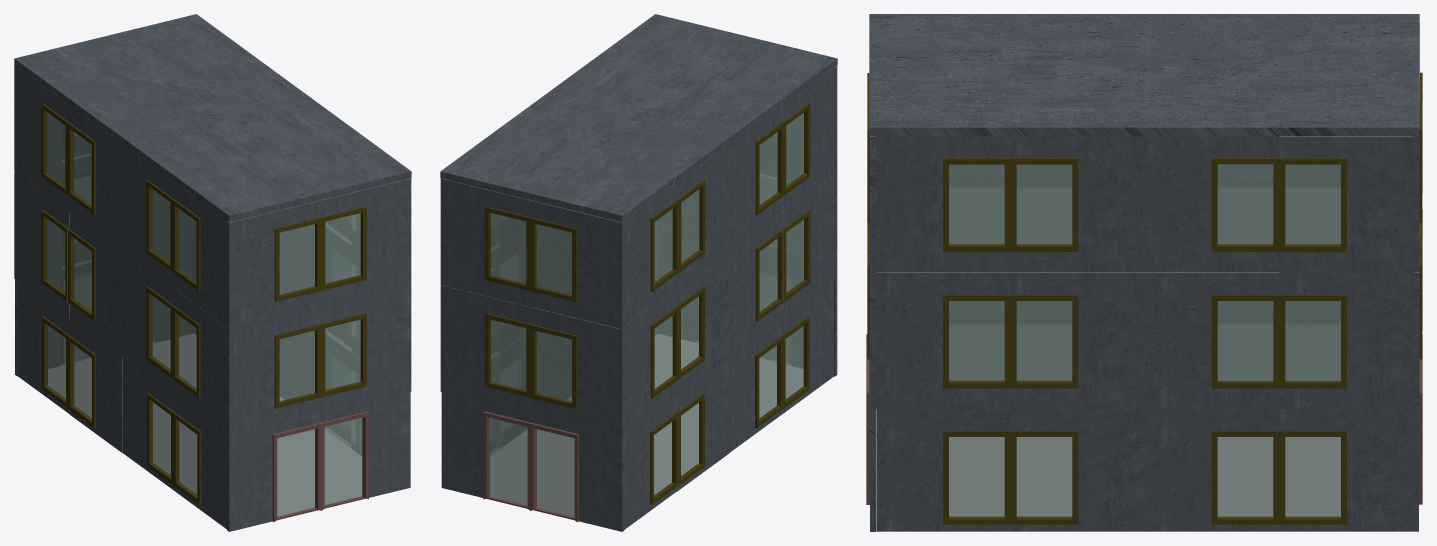
File: buildingD_textured.fbx
3 renders of one model, left to right at view 1: azimuth 30°, elevation 25°; view 2: azimuth 150°, elevation 25°; view 3: azimuth 270°, elevation 25°, orthographic. The views are drawn at different scales.
Parts seen in each view (by area): view 1: roof, window01 (×2), window02 (×2), window48, window40, fronDoor_01, fronDoor_02, window11 (×2), window04, window149, window34, window47 (+14 smaller); view 2: roof, window01 (×3), window02 (×2), window150, window35, backDoor_01, backDoor_02, window11 (×2), window39, window07, window03, window04 (+13 smaller); view 3: roof, window18, window32, window41, window05, window06, window31, window44, window45, window09 (×2), window11 (×2), window12 (×2) (+11 smaller).
Part boxes in pixels (bbox=[...]): roof: bbox=[14, 14, 411, 222]; window01 (×2): bbox=[17, 174, 321, 435]; window02 (×2): bbox=[14, 156, 411, 413]; window48: bbox=[226, 200, 321, 329]; window40: bbox=[320, 178, 411, 306]; fronDoor_01: bbox=[227, 414, 321, 531]; fronDoor_02: bbox=[320, 392, 410, 510]; window11 (×2): bbox=[122, 335, 297, 490]; window04: bbox=[172, 289, 226, 433]; window149: bbox=[67, 105, 121, 250]; window34: bbox=[172, 182, 226, 326]; window47: bbox=[68, 212, 121, 356]; roof: bbox=[440, 14, 837, 222]; window01 (×3): bbox=[440, 156, 837, 433]; window02 (×2): bbox=[530, 191, 698, 435]; window150: bbox=[530, 200, 624, 329]; window35: bbox=[440, 285, 531, 413]; backDoor_01: bbox=[530, 414, 624, 531]; backDoor_02: bbox=[441, 392, 531, 510]; window11 (×2): bbox=[501, 319, 783, 452]; window39: bbox=[624, 183, 678, 327]; window07: bbox=[729, 106, 783, 250]; window03: bbox=[729, 213, 783, 357]; window04: bbox=[782, 174, 834, 318]; roof: bbox=[869, 14, 1419, 136]; window18: bbox=[876, 272, 1010, 409]; window32: bbox=[1010, 272, 1144, 409]; window41: bbox=[1145, 272, 1279, 409]; window05: bbox=[876, 136, 1010, 272]; window06: bbox=[1010, 136, 1144, 272]; window31: bbox=[1145, 136, 1279, 272]; window44: bbox=[1279, 136, 1413, 272]; window45: bbox=[1279, 273, 1413, 409]; window09 (×2): bbox=[876, 301, 1340, 531]; window11 (×2): bbox=[1017, 301, 1279, 531]; window12 (×2): bbox=[949, 301, 1413, 531].
Size of the model in its own units: 9.19 by 14.99 by 18.67.
5 materials, 1 textured.
